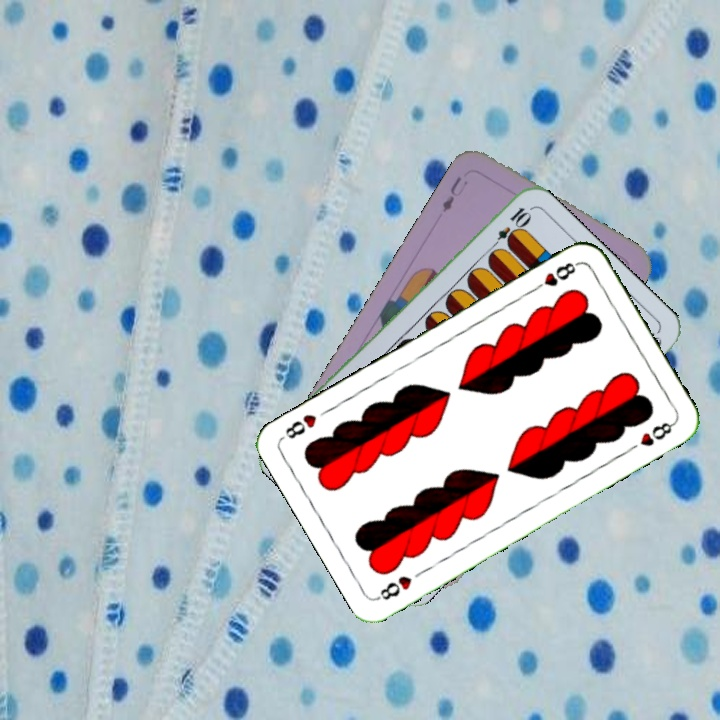E10: (486, 203, 533, 254)
EU: (438, 172, 471, 215)
H8: (528, 258, 582, 295), (373, 572, 415, 603)
